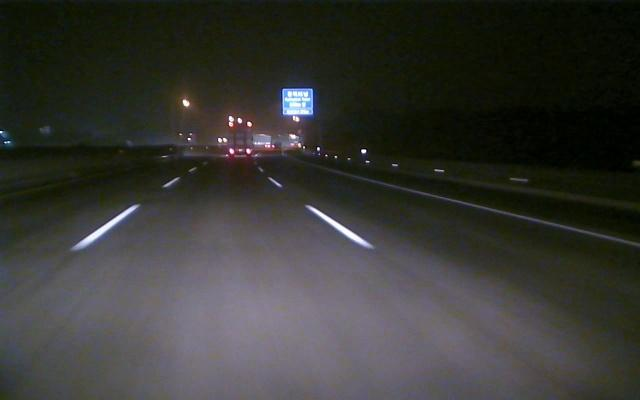lane: (346, 173, 637, 248), (70, 179, 177, 251), (269, 179, 374, 248)
